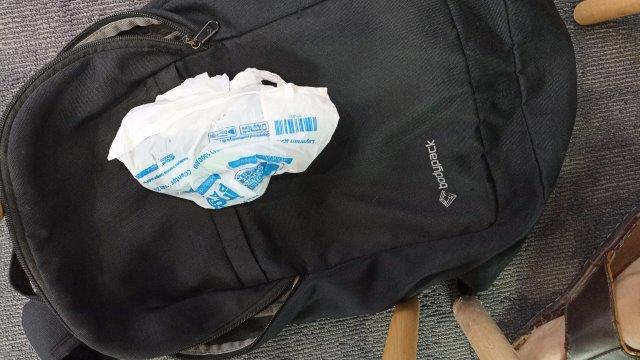plastik: (108, 69, 337, 208)
